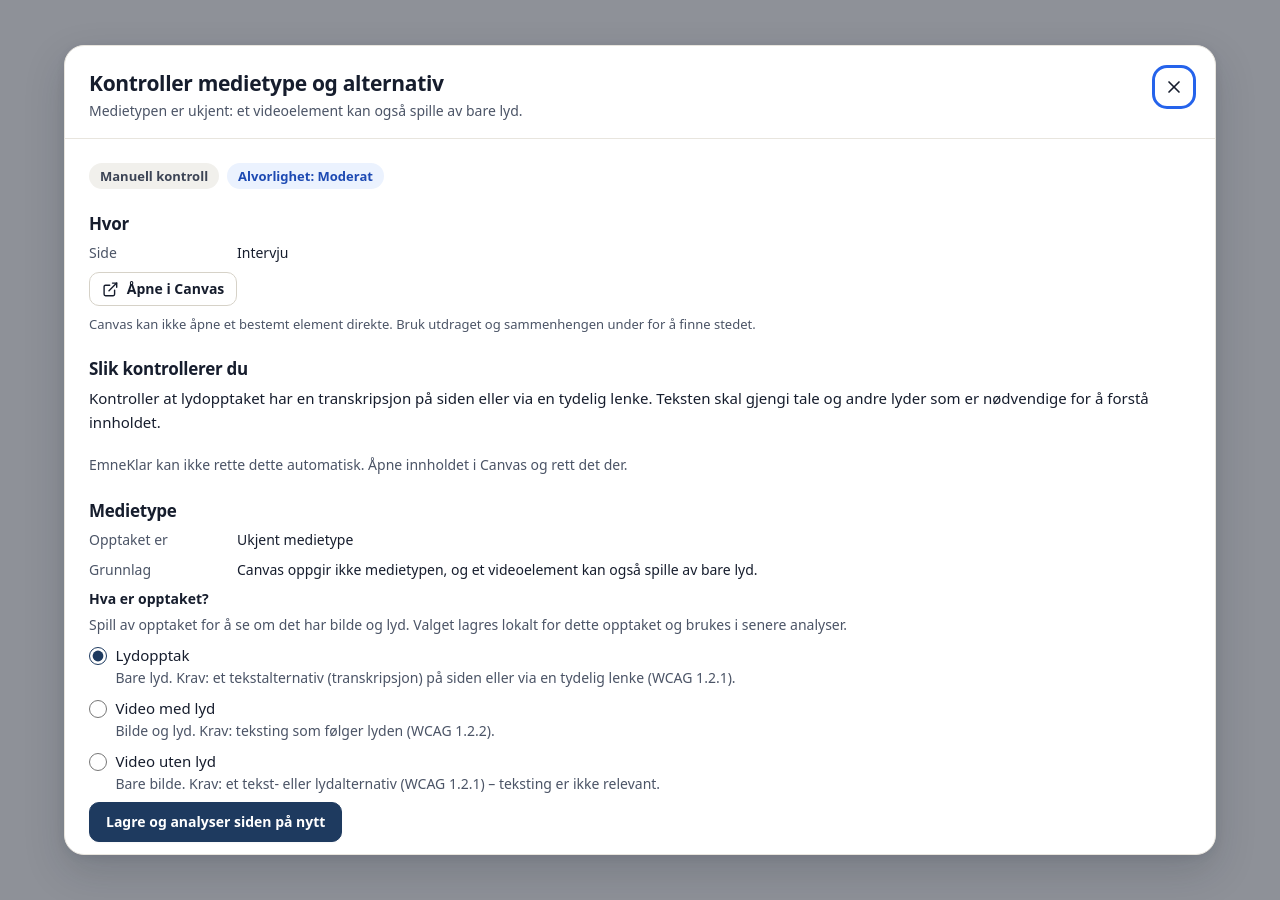
it: media findings › lets the teacher state the kind of an unknown recording and analyses the page again
Expected: the text "Ukjent medietype" is shown, [237,530,353,549]
Click the radio button labelled "Video uten lyd": (98, 762) [89,753,107,771]
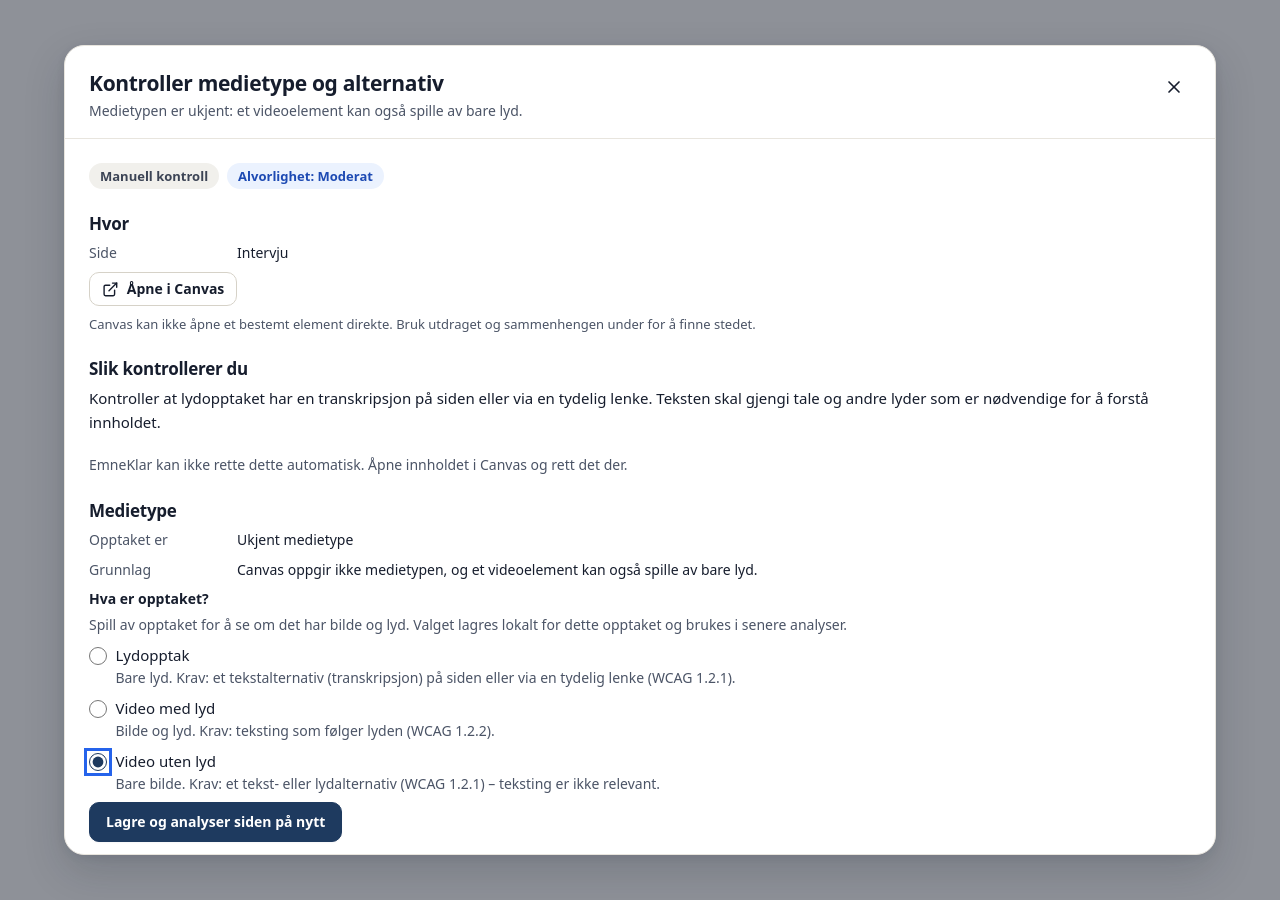
Click the button "Lagre og analyser siden på nytt": (216, 822) [89,802,342,842]
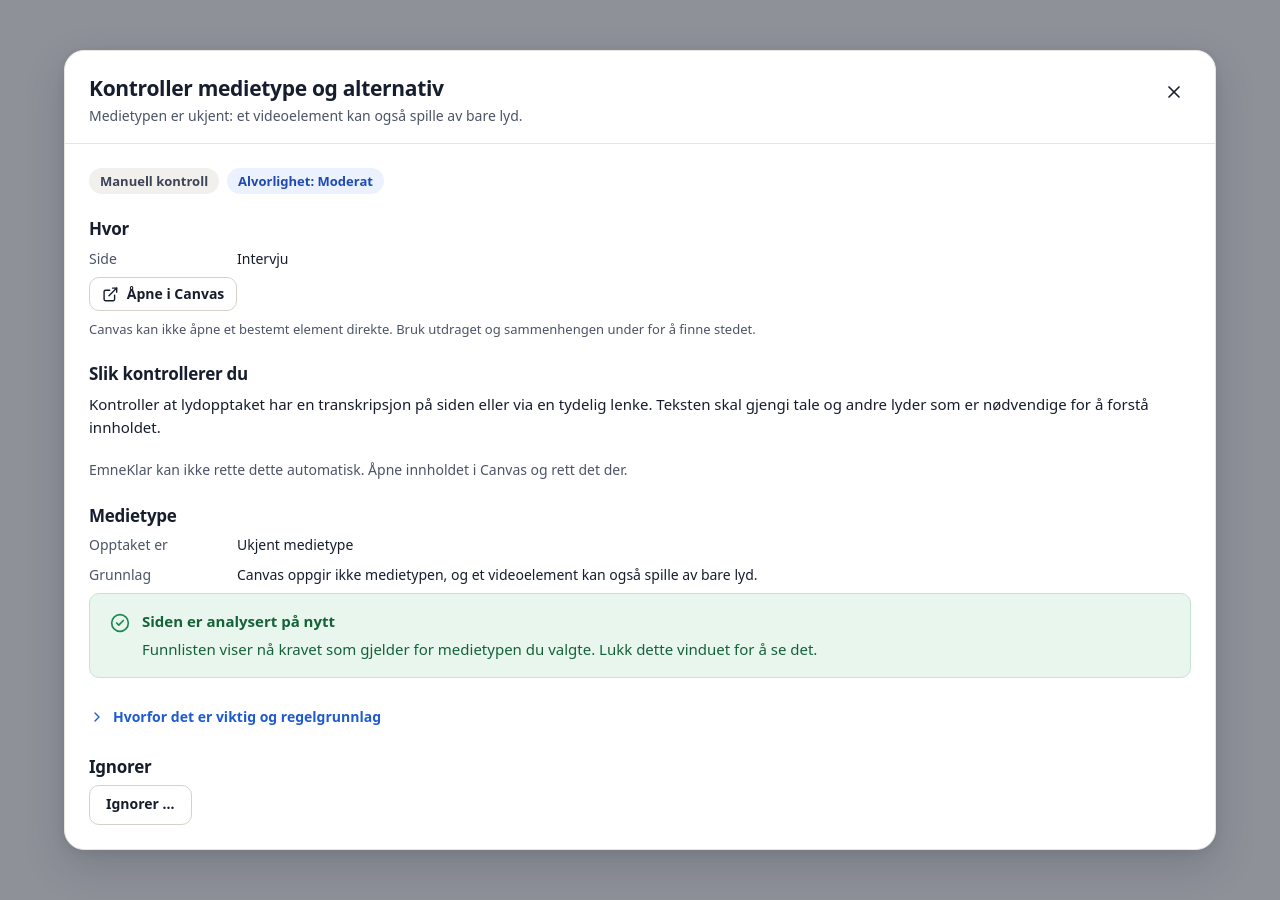
Result: the text "Siden er analysert på nytt" is shown at [142,611,335,631]
